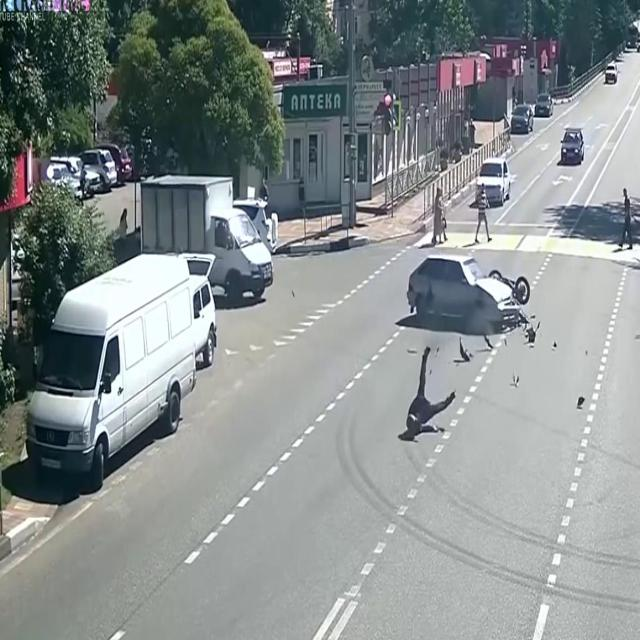accident: (381, 240, 539, 340)
non_accident: (6, 138, 280, 502)
